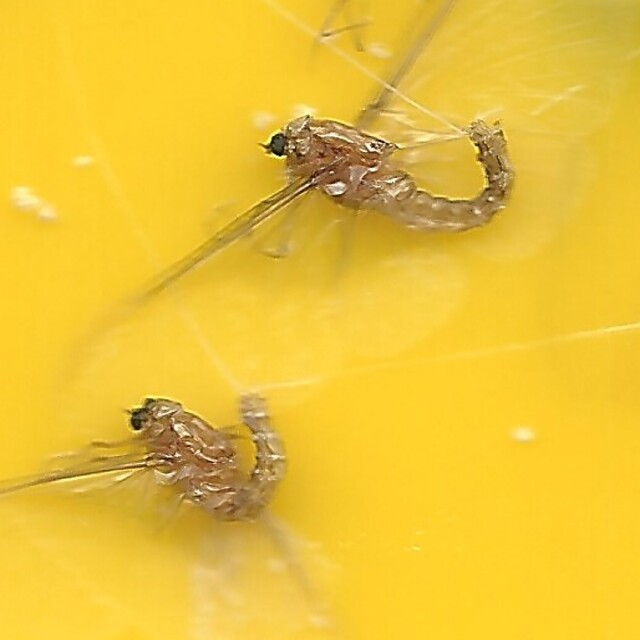Ephemeroptera: (266, 113, 515, 237), (125, 388, 298, 527)
